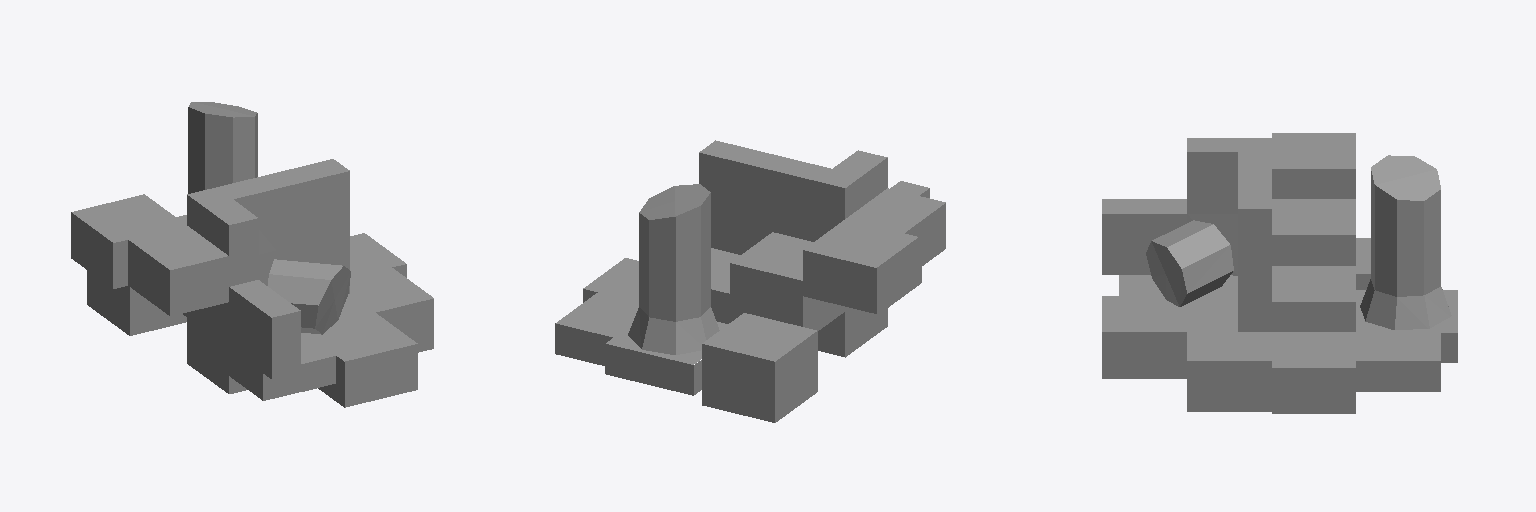
File: preview.obj
3 views of the same model, side by side, from view 1: azimuth 30°, elevation 25°; view 2: azimuth 150°, elevation 25°; view 3: azimuth 270°, elevation 25° (orthographic).
Parts seen in each view (by area): view 1: Dec0; view 2: Dec0; view 3: Dec0.
Part boxes in pixels (left/top/right/bottom): Dec0: left=71, top=102, right=433, bottom=407; Dec0: left=555, top=140, right=945, bottom=422; Dec0: left=1102, top=133, right=1457, bottom=413.
Size of the model in its own units: 4.99 by 3.32 by 5.23.